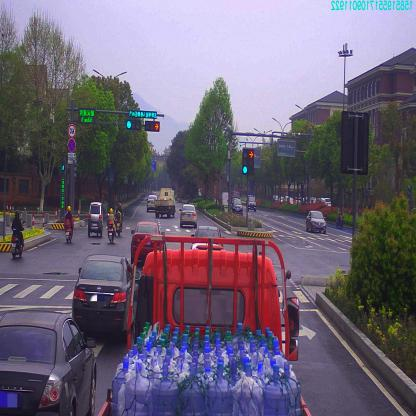traffic-light: (128, 109, 158, 116), (125, 120, 140, 130), (146, 121, 160, 129)
